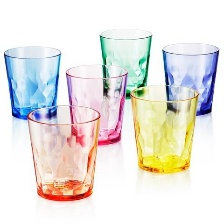glass: (15, 102, 105, 203), (122, 78, 203, 179), (59, 61, 132, 150), (154, 37, 224, 119), (0, 42, 66, 122), (95, 21, 158, 104)
